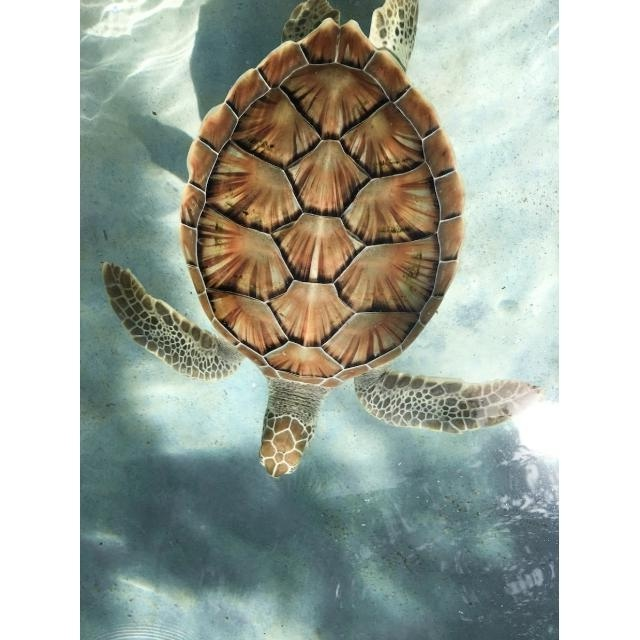turtle: (102, 3, 542, 479)
